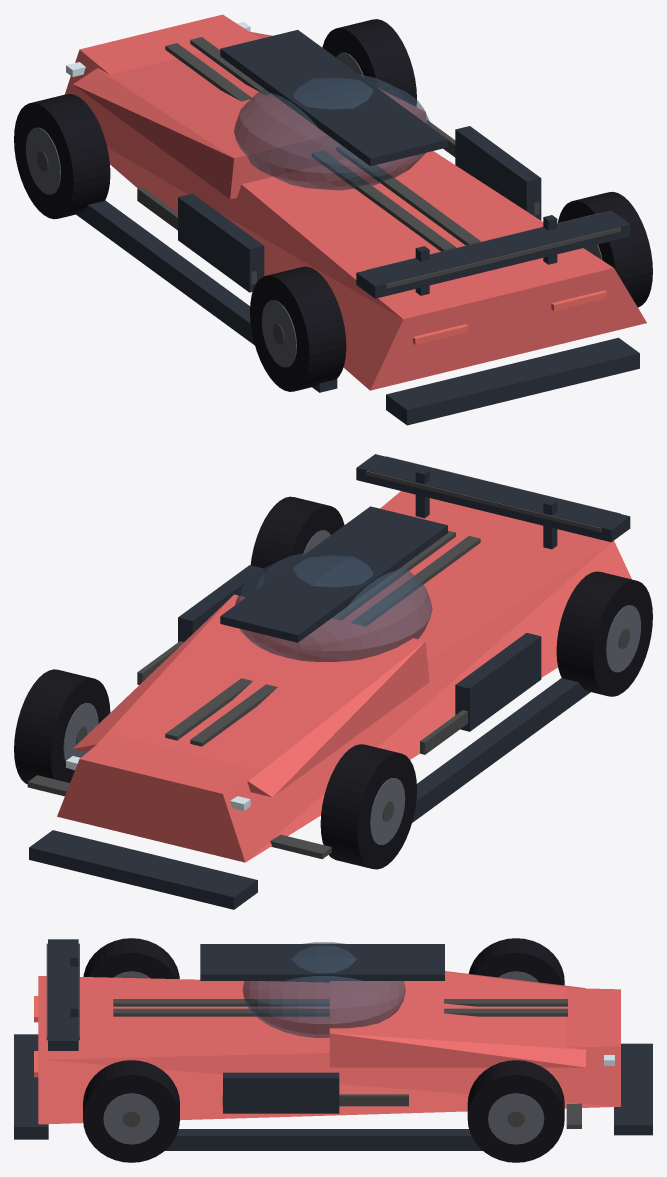
The model's file is crimson.glb.
3 renders of one model, top to bottom at view 1: azimuth 30°, elevation 25°; view 2: azimuth 150°, elevation 25°; view 3: azimuth 270°, elevation 25°, orthographic. The views are drawn at different scales.
Visible parts, largest first — view 1: body_chassis, hood_slope, carbon_roof_spine, dark_cockpit_canopy, rear_diffuser, left_rear_tire, left_front_tire, rear_spoiler_wing, left_side_skirt, left_side_intake, right_front_tire, right_rear_tire (+7 smaller); view 2: body_chassis, hood_slope, carbon_roof_spine, dark_cockpit_canopy, left_front_tire, left_rear_tire, front_splitter, rear_spoiler_wing, right_front_tire, left_side_skirt, left_side_intake, right_rear_tire (+9 smaller); view 3: body_chassis, hood_slope, carbon_roof_spine, dark_cockpit_canopy, right_side_skirt, right_front_tire, right_rear_tire, right_side_intake, rear_spoiler_wing, front_splitter, left_front_tire, center_stripe_right (+8 smaller).
Boxes of the visible parts, box(x1,y1,x2,y2) form: body_chassis: box(65, 14, 646, 390); hood_slope: box(73, 32, 426, 199); carbon_roof_spine: box(220, 30, 447, 166); dark_cockpit_canopy: box(234, 74, 431, 190); rear_diffuser: box(386, 337, 639, 425); left_rear_tire: box(250, 266, 346, 391); left_front_tire: box(14, 94, 110, 219); rear_spoiler_wing: box(356, 210, 630, 298); left_side_skirt: box(76, 200, 337, 392); left_side_intake: box(178, 193, 264, 292); right_front_tire: box(322, 19, 416, 106); right_rear_tire: box(558, 192, 652, 307); body_chassis: box(57, 491, 631, 862); hood_slope: box(73, 594, 429, 797); carbon_roof_spine: box(220, 506, 447, 642); dark_cockpit_canopy: box(235, 552, 432, 661); left_front_tire: box(320, 744, 416, 869); left_rear_tire: box(556, 571, 652, 696); front_splitter: box(29, 830, 257, 909); rear_spoiler_wing: box(356, 454, 630, 542); right_front_tire: box(14, 669, 110, 784); left_side_skirt: box(412, 678, 590, 822); left_side_intake: box(455, 633, 541, 731); right_rear_tire: box(250, 496, 344, 583); body_chassis: box(38, 976, 620, 1124); hood_slope: box(329, 971, 585, 1067); carbon_roof_spine: box(200, 944, 444, 980); dark_cockpit_canopy: box(242, 942, 405, 1037); right_side_skirt: box(165, 1129, 482, 1150); right_front_tire: box(467, 1060, 564, 1162); right_rear_tire: box(83, 1060, 179, 1162); right_side_intake: box(223, 1072, 339, 1113); rear_spoiler_wing: box(48, 939, 78, 1050); front_splitter: box(614, 1043, 652, 1135); left_front_tire: box(468, 938, 564, 985); center_stripe_right: box(113, 1008, 567, 1016).
Bounding box in the file's own units: 2.35 × 1.1 × 4.61.
